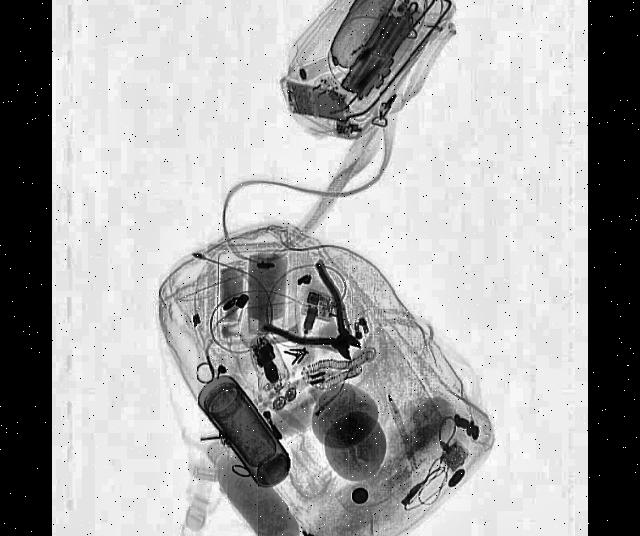Pliers: (263, 248, 379, 400)
